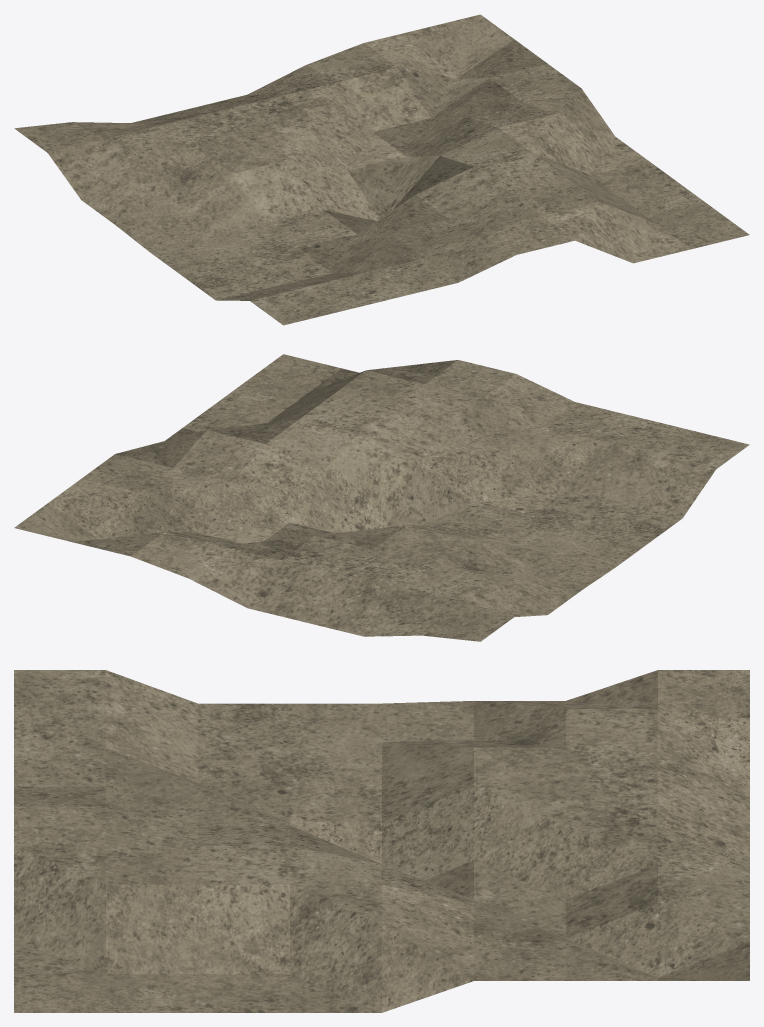
The model's file is sand.obj.
3 views of the same model, one above another, from view 1: azimuth 30°, elevation 25°; view 2: azimuth 150°, elevation 25°; view 3: azimuth 270°, elevation 25° (orthographic). The views are drawn at different scales.
Parts seen in each view (by area): view 1: Plane; view 2: Plane; view 3: Plane.
Part boxes in pixels (box(x1,y1,x2,y2)): Plane: box(14, 14, 749, 325); Plane: box(14, 354, 749, 641); Plane: box(14, 670, 749, 1012).
Bounding box in the file's own units: 20 × 2.71 × 20.
1 material, 1 textured.
